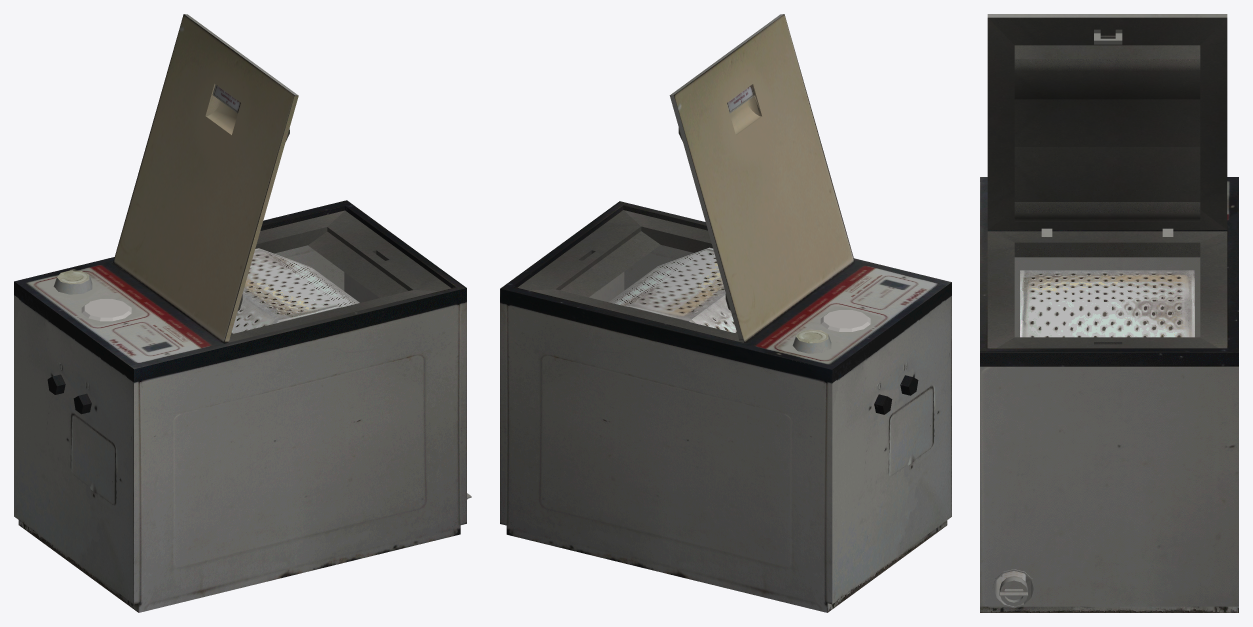
File: SovietWashMachine.fbx
The picture shows the model from 3 angles, left to right: view 1: azimuth 30°, elevation 25°; view 2: azimuth 150°, elevation 25°; view 3: azimuth 270°, elevation 25°; orthographic projection. The views are drawn at different scales.
Visible parts, largest first — view 1: WashMachine, Hatch.001, Drum; view 2: WashMachine, Hatch.001, Drum; view 3: WashMachine, Hatch.001, Drum, Part.
Boxes of the visible parts, x1=… form: WashMachine: x1=14, y1=200, x2=466, y2=612; Hatch.001: x1=113, y1=14, x2=298, y2=343; Drum: x1=231, y1=248, x2=359, y2=333; WashMachine: x1=500, y1=201, x2=951, y2=612; Hatch.001: x1=669, y1=14, x2=854, y2=342; Drum: x1=609, y1=247, x2=736, y2=332; WashMachine: x1=980, y1=177, x2=1238, y2=612; Hatch.001: x1=987, y1=14, x2=1227, y2=229; Drum: x1=1020, y1=270, x2=1194, y2=337; Part: x1=999, y1=571, x2=1028, y2=606.
Size of the model in its own units: 3234 by 4140 by 1890.
